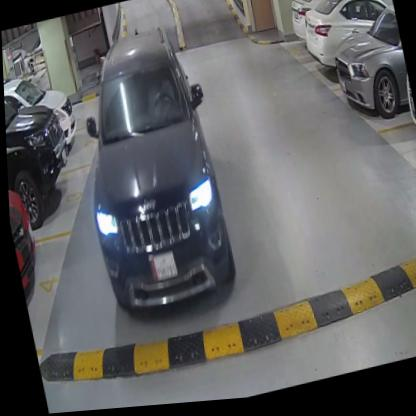np: (146, 249, 177, 287)
